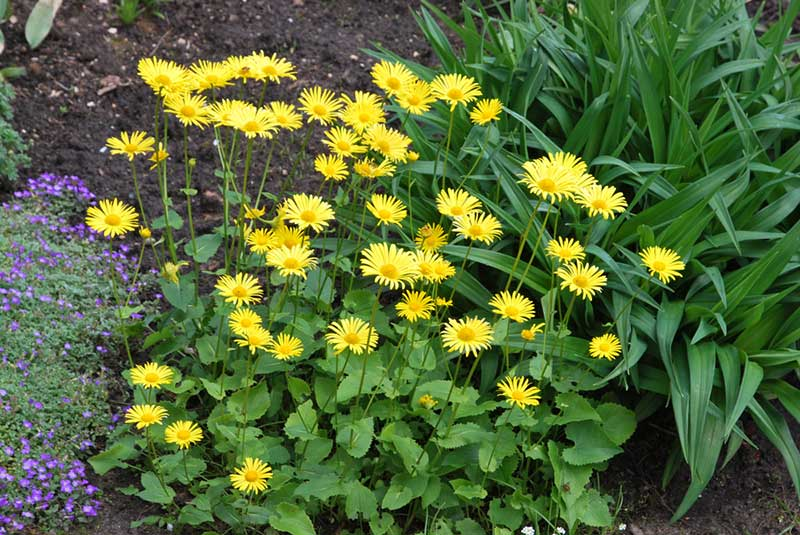dandelion: (190, 47, 287, 90), (318, 135, 411, 176), (552, 233, 609, 299), (354, 236, 415, 286), (524, 149, 584, 199), (373, 59, 433, 109), (494, 370, 554, 419), (95, 127, 162, 164), (86, 199, 146, 240), (429, 319, 490, 357), (634, 243, 690, 284), (330, 310, 378, 356), (492, 281, 540, 325), (215, 263, 264, 304), (146, 52, 188, 99), (281, 194, 332, 231), (230, 453, 276, 494), (584, 321, 628, 363), (438, 190, 482, 221), (130, 364, 173, 395), (302, 82, 333, 122), (460, 217, 507, 242), (270, 245, 310, 273), (127, 404, 167, 429), (164, 425, 203, 445)
